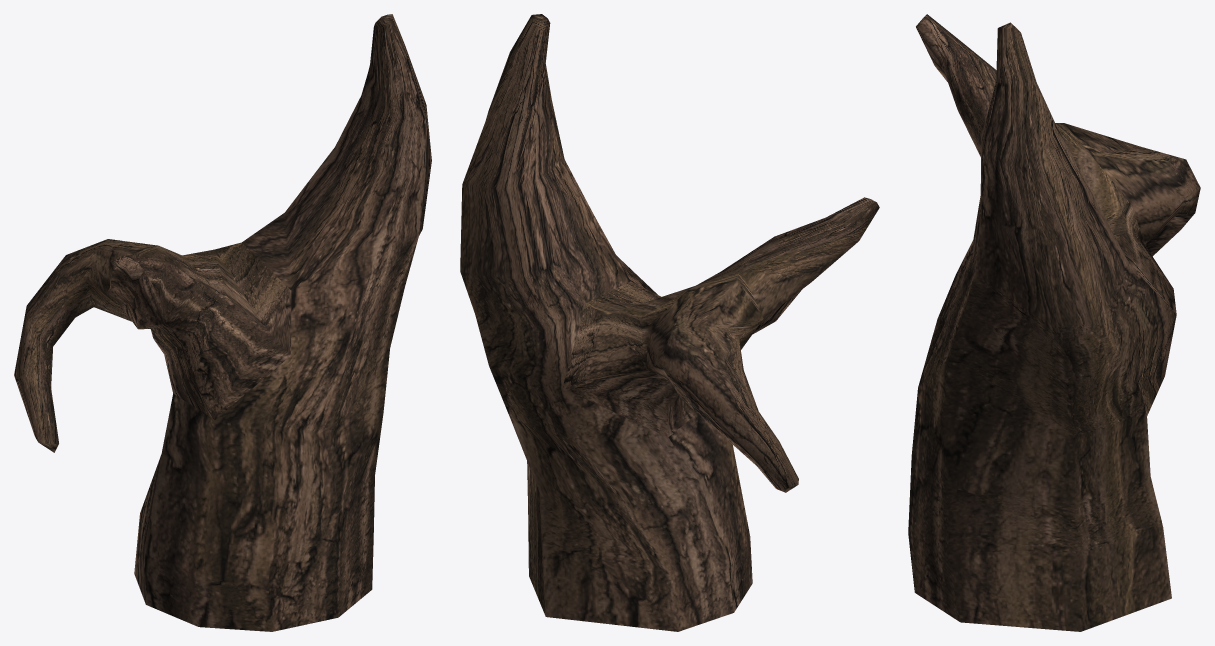
Rendered from tree_1Tile_001.fbx.
3 renders of one model, left to right at view 1: azimuth 30°, elevation 25°; view 2: azimuth 150°, elevation 25°; view 3: azimuth 270°, elevation 25°, orthographic. The views are drawn at different scales.
Parts seen in each view (by area): view 1: tree_1Tile; view 2: tree_1Tile; view 3: tree_1Tile.
Part boxes in pixels (<box>): tree_1Tile: <box>14,14,431,631</box>; tree_1Tile: <box>460,14,879,631</box>; tree_1Tile: <box>908,14,1200,631</box>.
Size of the model in its own units: 156 by 221 by 94.63.
